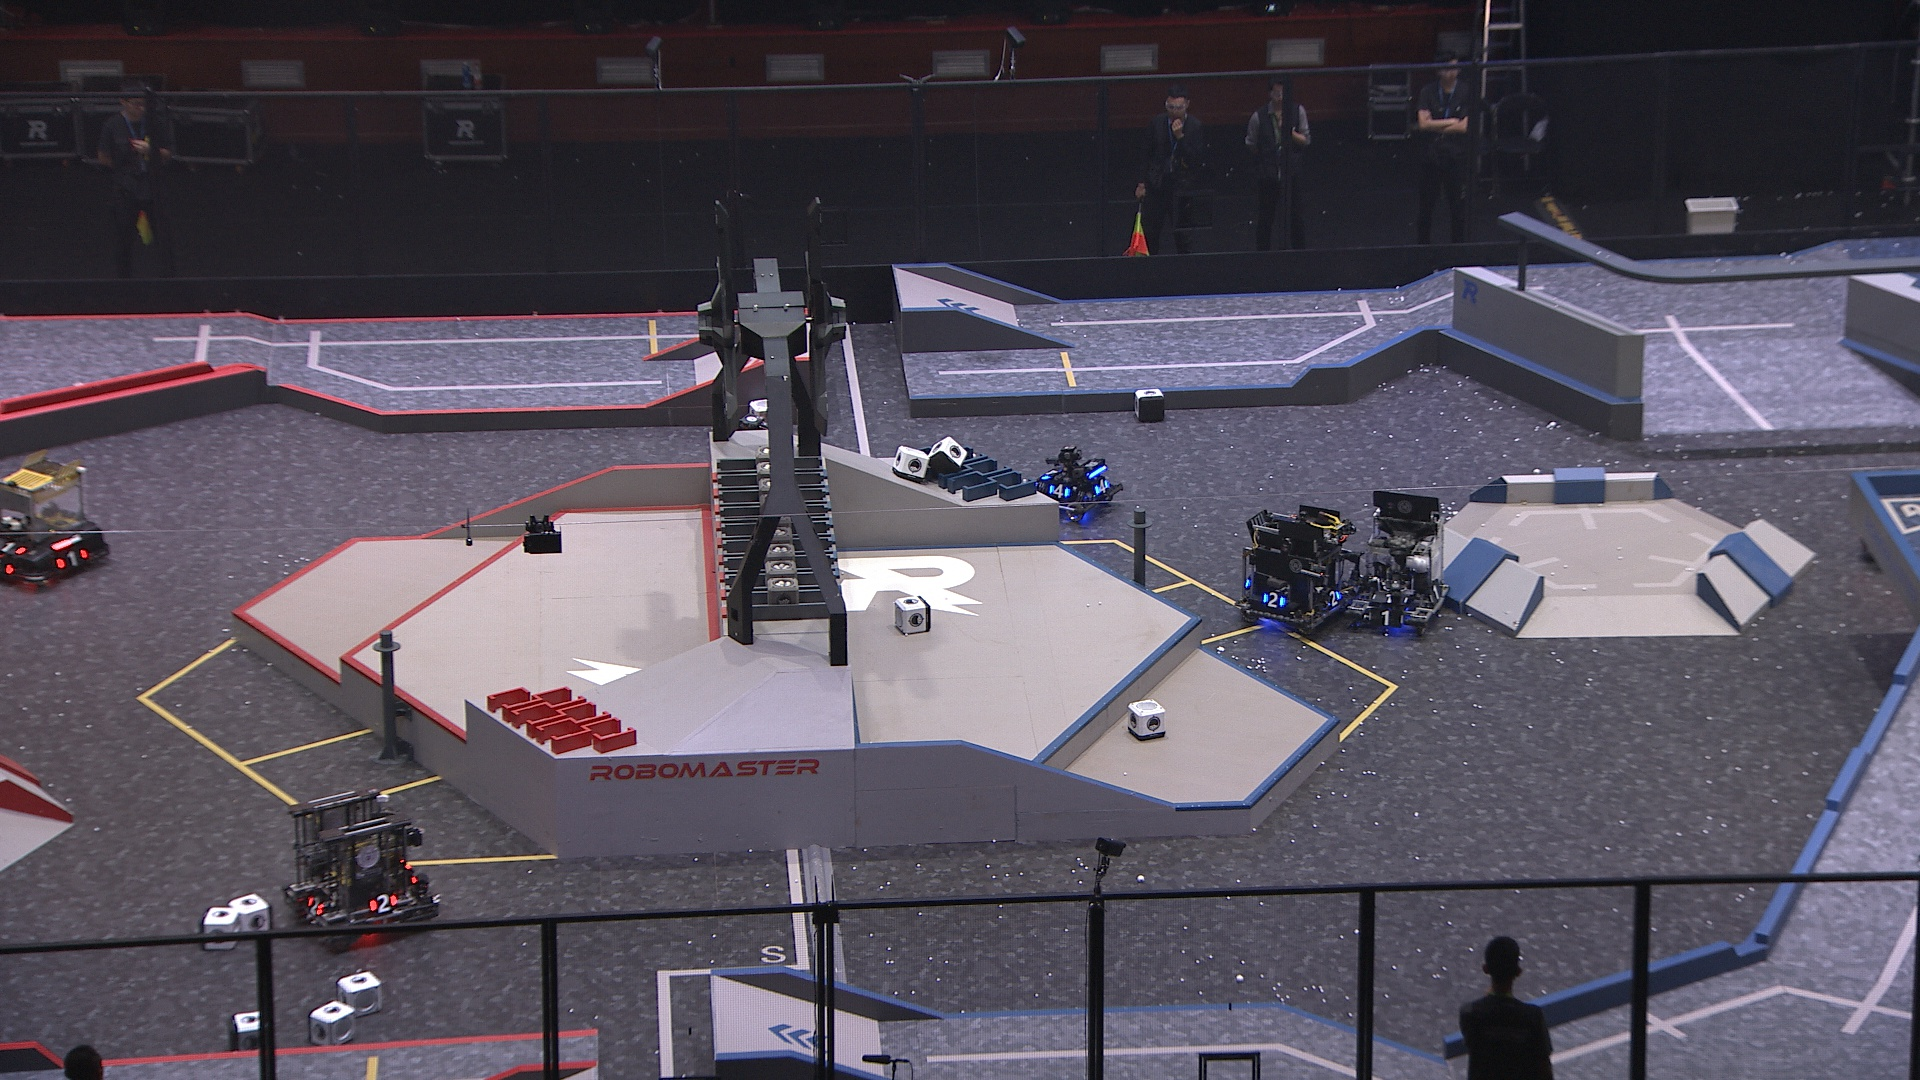armor: (55, 547, 91, 568), (368, 891, 400, 913), (1366, 611, 1403, 628), (305, 893, 327, 920), (1371, 589, 1408, 605), (1259, 589, 1287, 608), (1091, 477, 1112, 498), (1325, 589, 1342, 609), (1048, 484, 1069, 500), (1429, 583, 1444, 605), (1040, 465, 1058, 484)
car: (280, 789, 442, 945), (1230, 504, 1365, 638), (1352, 491, 1452, 640), (1031, 444, 1126, 527)
